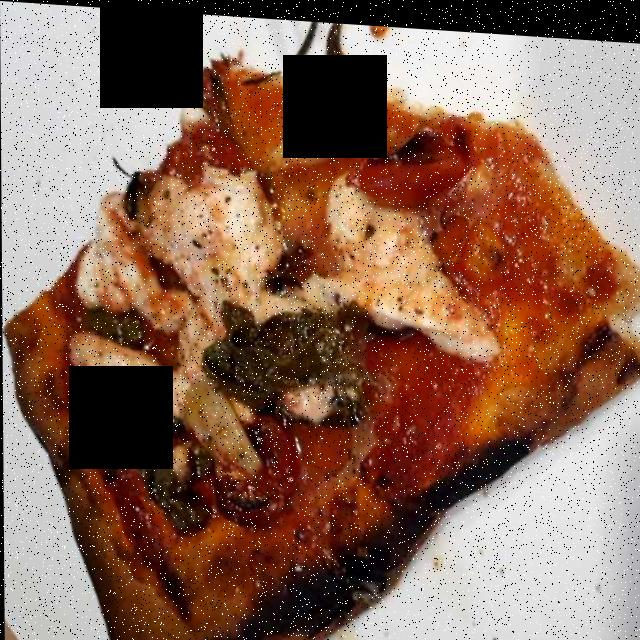goat-average-raw: (69, 166, 512, 423)
leaf-spinach: (77, 304, 396, 542)
pizza-margherita-baked: (23, 56, 607, 635)
